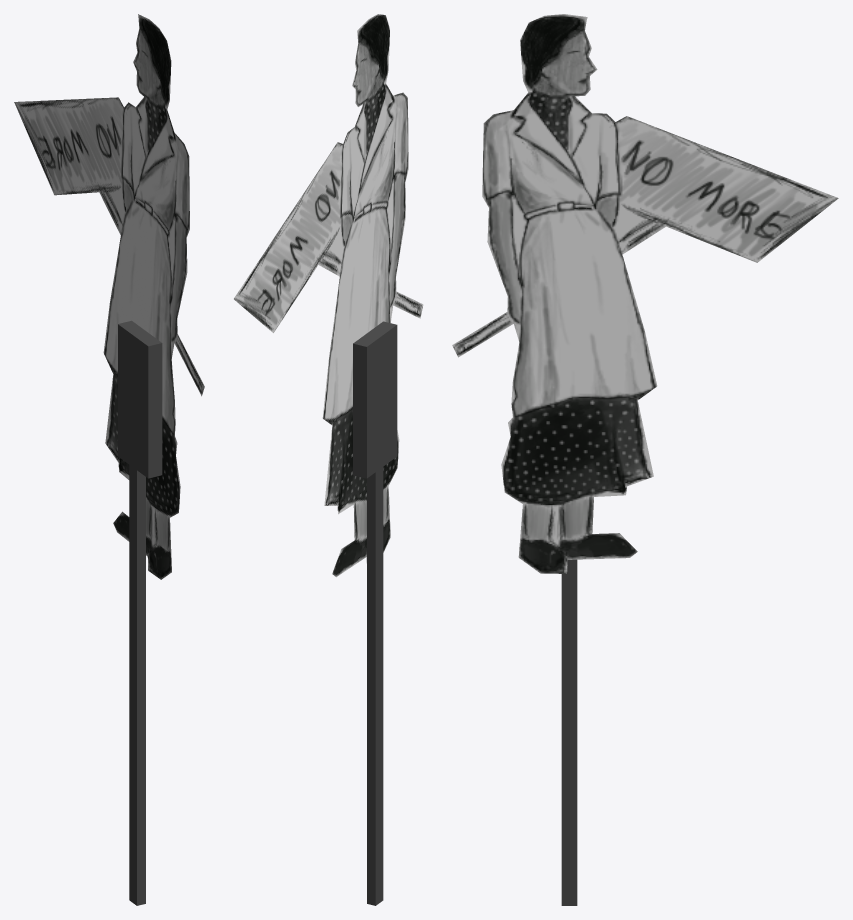
File: Depression_Women1.fbx
3 renders of one model, left to right at view 1: azimuth 30°, elevation 25°; view 2: azimuth 150°, elevation 25°; view 3: azimuth 270°, elevation 25°, orthographic.
Parts seen in each view (by area): view 1: pCube4; view 2: pCube4; view 3: pCube4.
Boxes of the visible parts, x1,y1,x2,y2 form: pCube4: (14, 14, 204, 905); pCube4: (234, 14, 423, 905); pCube4: (452, 14, 838, 905).
Size of the model in its own units: 0.00084 by 0.0469 by 0.0184.
2 materials, 1 textured.
